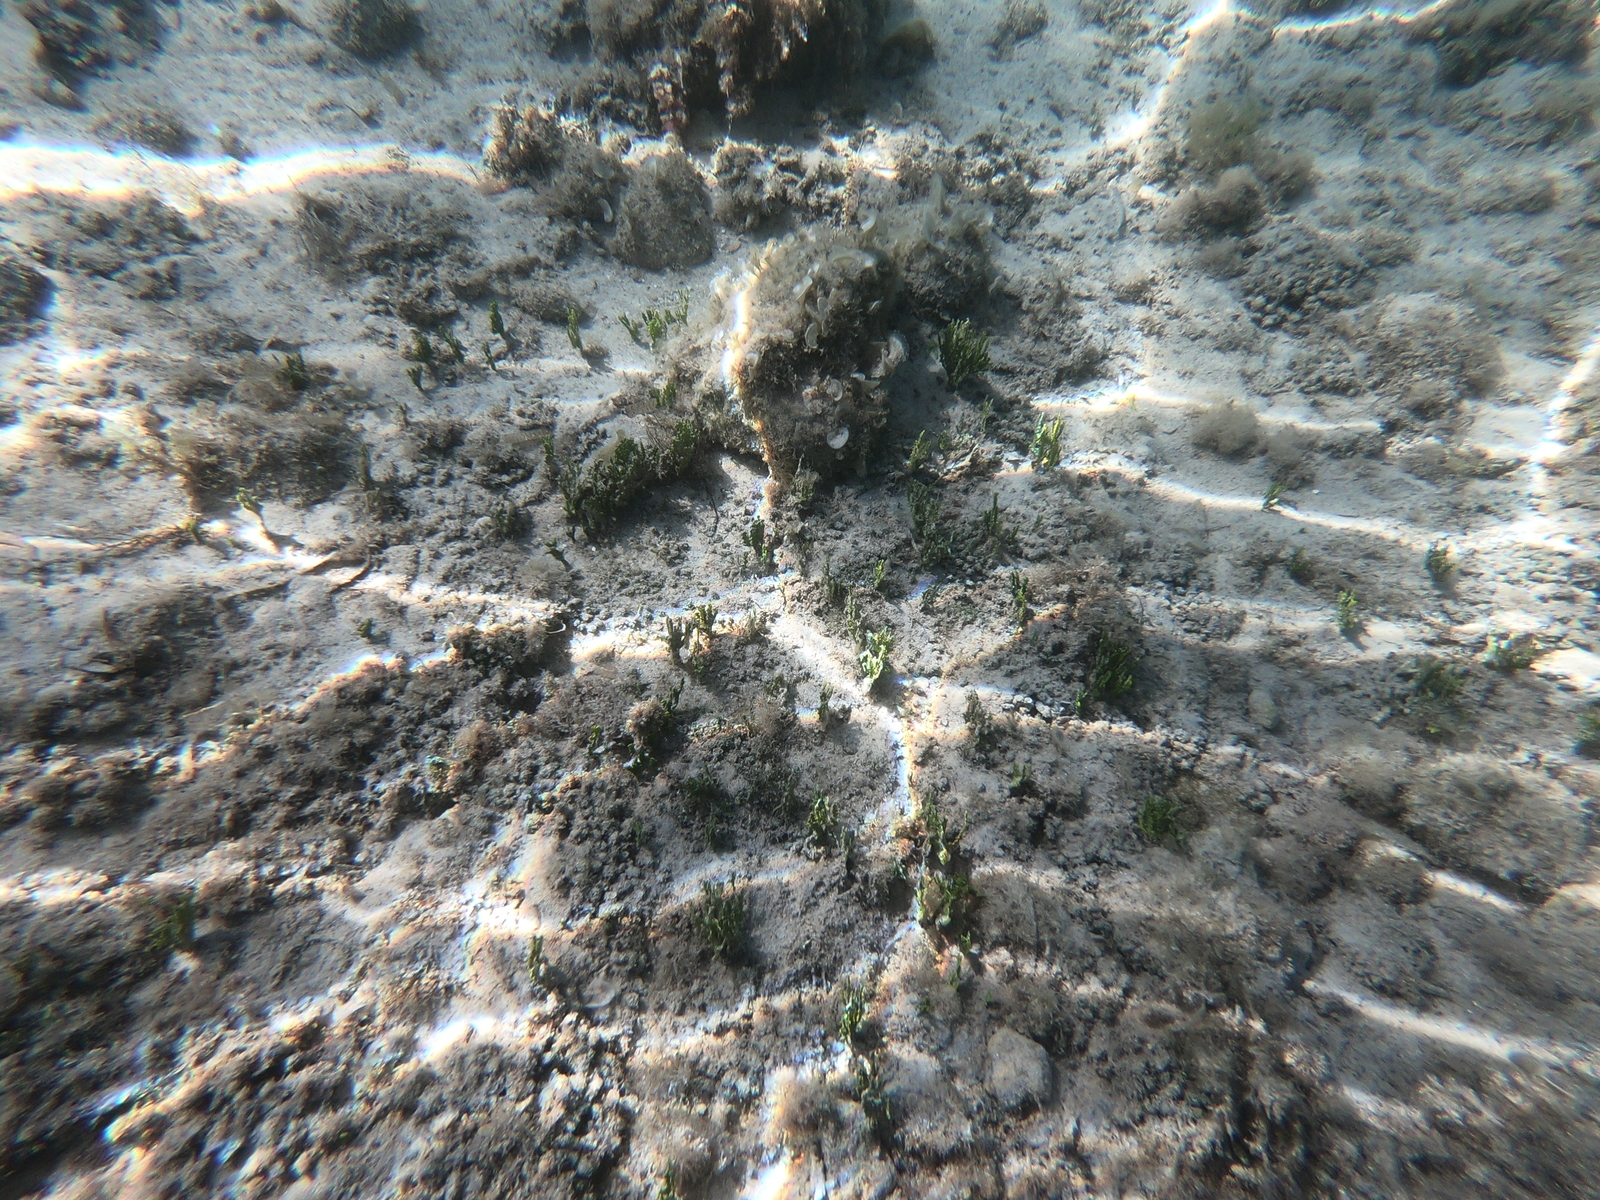halimeda: (918, 798, 970, 952), (697, 879, 758, 963), (941, 310, 990, 395), (1090, 633, 1139, 713), (910, 480, 951, 575), (615, 436, 645, 521), (581, 476, 619, 539), (981, 495, 1018, 557), (1416, 658, 1456, 713), (839, 993, 867, 1068), (857, 626, 891, 686), (751, 519, 786, 572), (1037, 413, 1065, 474), (1141, 785, 1168, 843), (808, 799, 838, 848), (663, 615, 692, 661), (763, 776, 794, 819), (1498, 639, 1534, 673), (910, 427, 934, 475), (168, 906, 191, 954), (641, 308, 671, 345), (646, 445, 677, 483), (490, 303, 511, 354), (677, 421, 699, 469), (590, 461, 650, 479), (1427, 542, 1451, 586), (1010, 565, 1031, 614), (496, 507, 525, 539), (236, 488, 261, 524), (661, 677, 684, 716), (963, 693, 986, 729), (530, 933, 548, 979), (564, 463, 578, 519), (441, 330, 465, 362), (1339, 590, 1356, 635), (679, 776, 707, 803), (821, 567, 839, 606), (1290, 551, 1313, 581), (818, 682, 831, 729), (799, 476, 816, 513), (566, 306, 580, 352), (847, 589, 863, 626), (1010, 763, 1036, 787), (697, 601, 716, 632), (843, 828, 857, 868), (619, 315, 639, 339), (412, 332, 430, 358), (408, 367, 425, 395), (663, 376, 677, 408), (540, 437, 556, 466), (186, 514, 202, 542), (588, 725, 603, 753), (627, 758, 643, 785), (396, 402, 409, 427), (1266, 484, 1280, 509), (286, 353, 305, 371), (923, 580, 936, 605), (874, 555, 883, 587), (483, 343, 493, 367), (706, 824, 716, 848), (428, 361, 440, 378), (650, 389, 663, 405), (748, 609, 756, 634), (1031, 512, 1039, 532), (567, 527, 577, 545), (781, 585, 787, 608), (741, 529, 748, 545), (742, 550, 748, 567), (547, 539, 559, 547), (627, 742, 635, 755), (648, 758, 654, 771), (729, 619, 733, 629), (719, 621, 724, 628)
